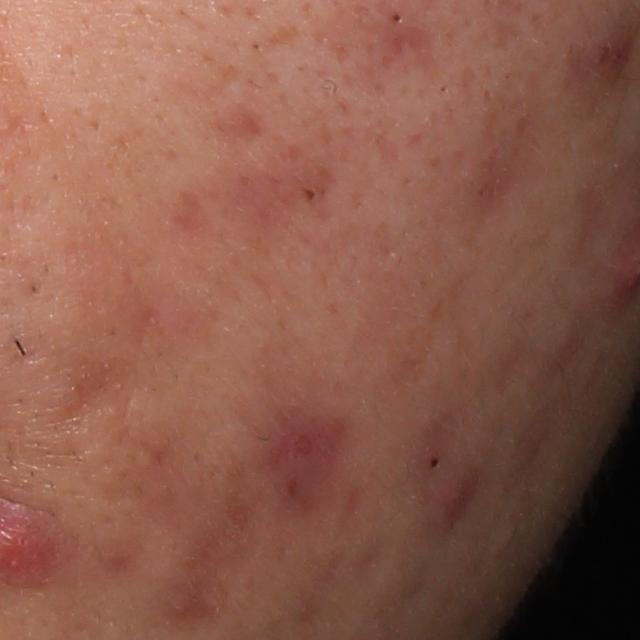atrophic_scar: (459, 86, 524, 238), (198, 96, 272, 138)
comedo: (425, 449, 451, 477), (301, 187, 320, 206), (387, 7, 403, 26)
papule: (432, 472, 481, 522)
